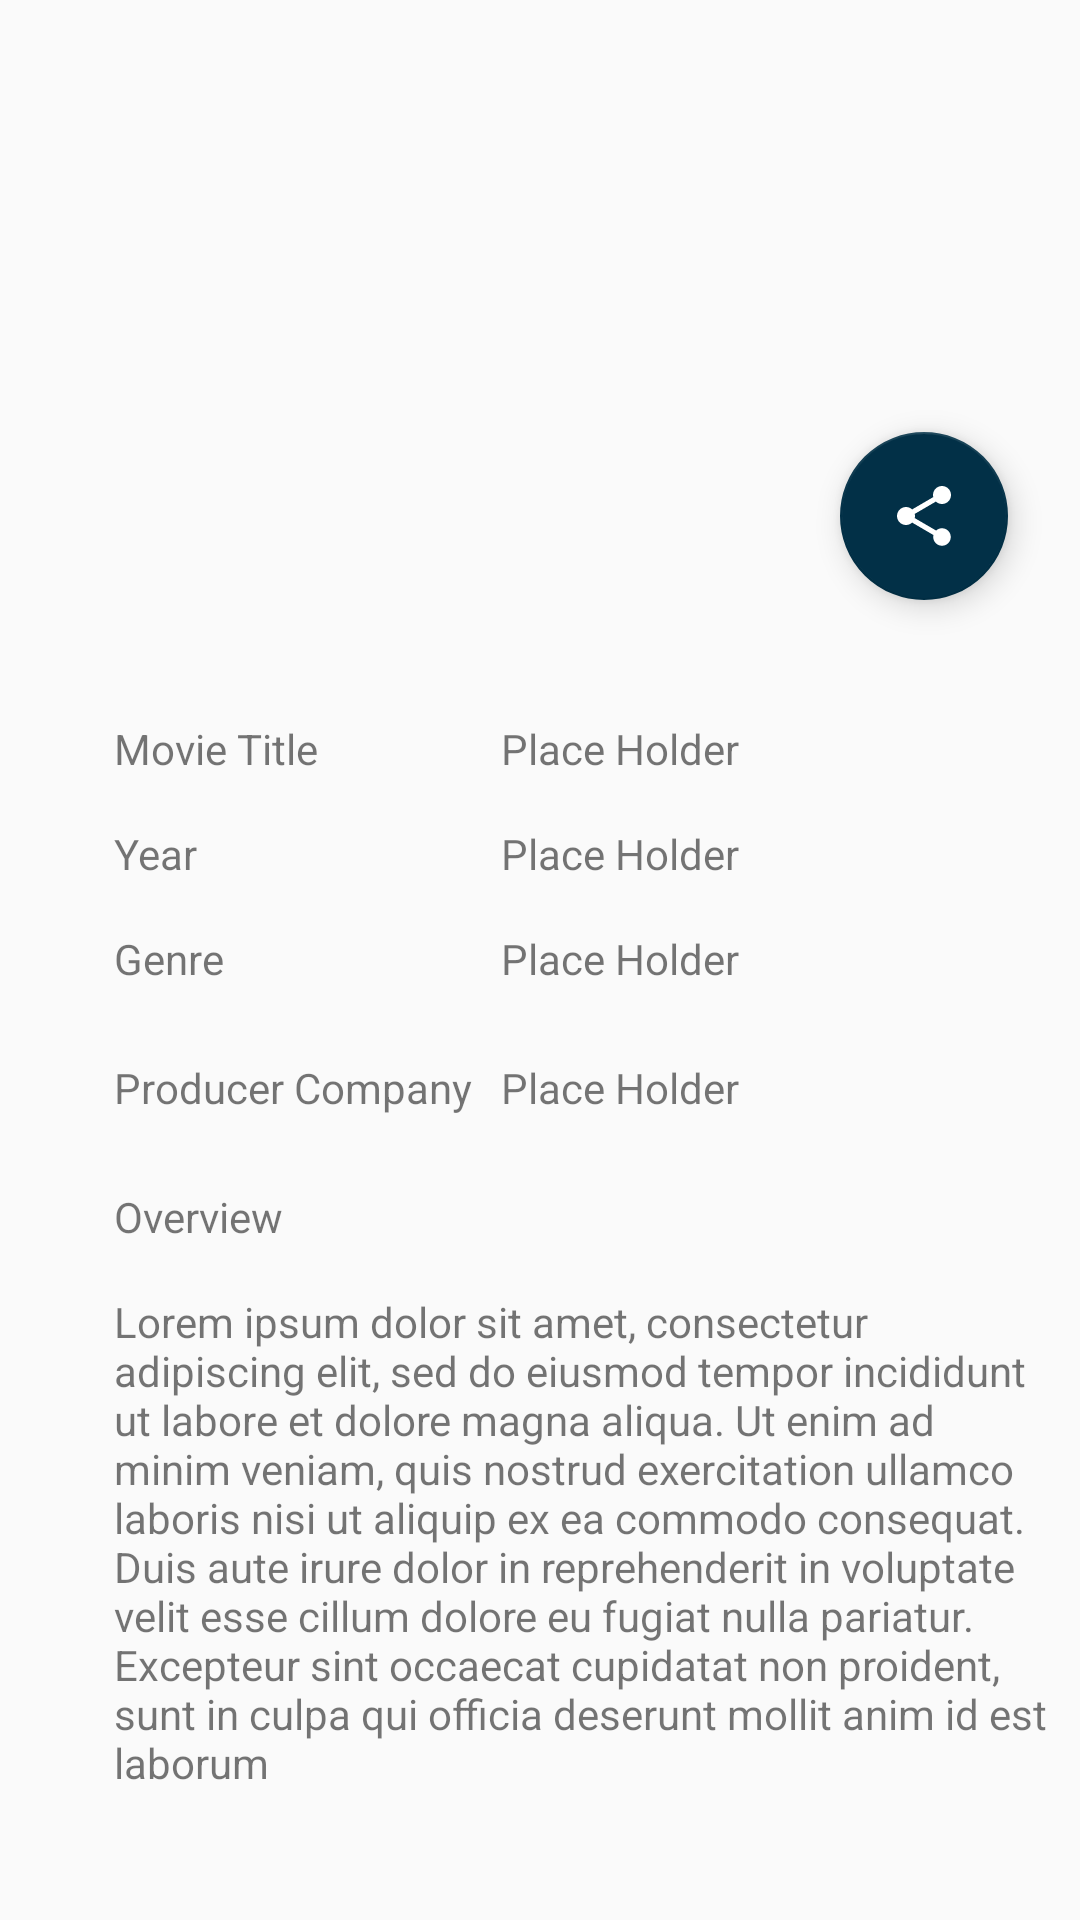

Screen size 1080w x 1920h. Icon name, then its box in pixels as {"x1": x1, "y1": y1, "x2": x2, "y2": y2}:
share: {"x1": 840, "y1": 432, "x2": 1008, "y2": 600}
